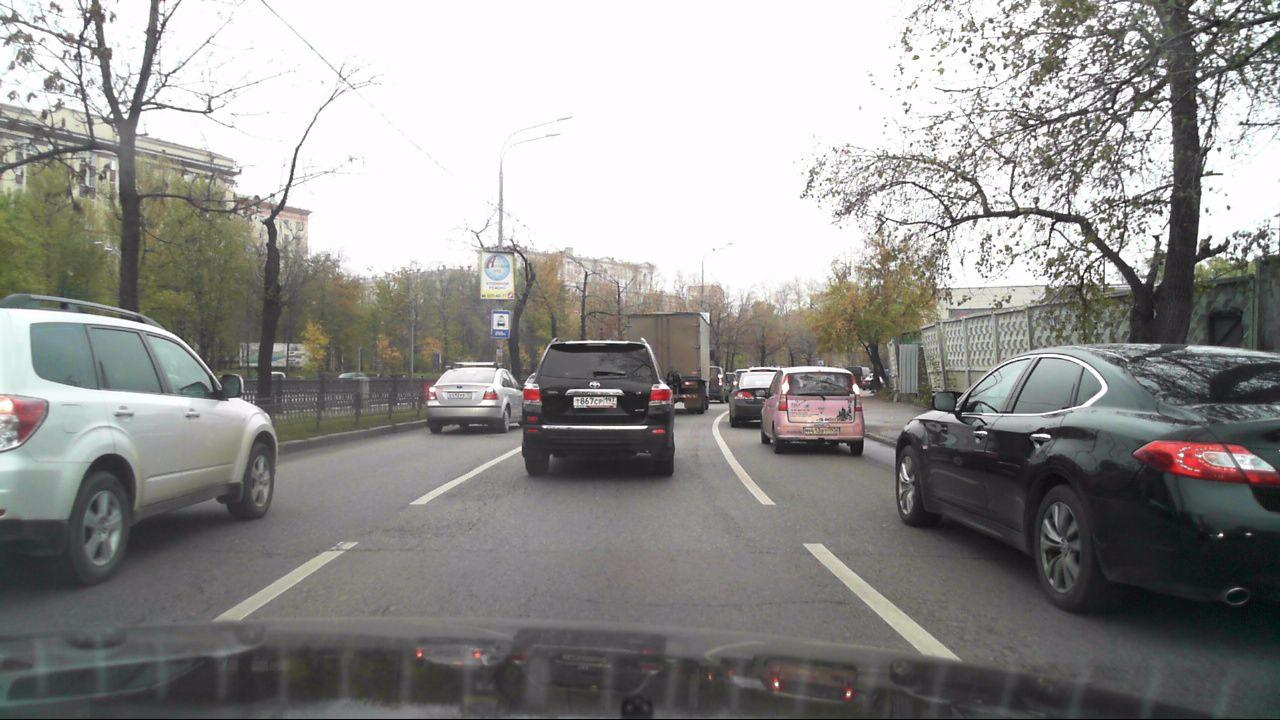7_5: (491, 309, 510, 339)
